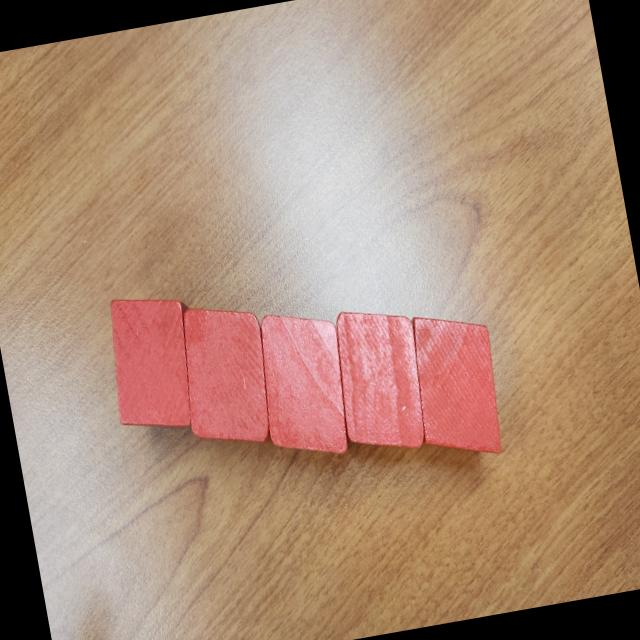red: (248, 303, 359, 469), (324, 299, 436, 460), (401, 303, 510, 466), (170, 296, 280, 454), (99, 286, 210, 438)
